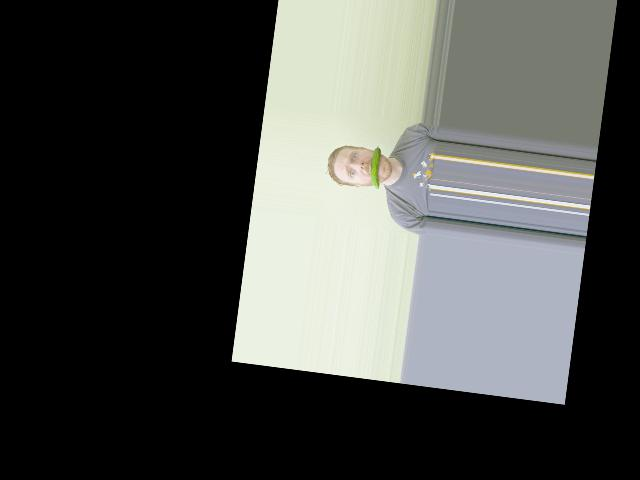cucumber: (368, 145, 384, 189)
